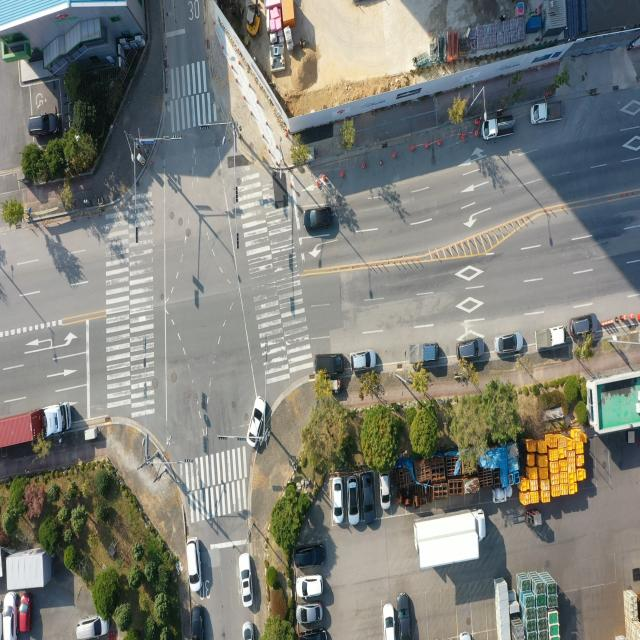car: (247, 396, 266, 447), (77, 614, 108, 640), (314, 351, 345, 376), (26, 115, 58, 139), (186, 540, 200, 594), (495, 332, 524, 358), (296, 546, 326, 571), (305, 207, 333, 231), (349, 349, 376, 373), (238, 554, 250, 608), (361, 475, 374, 524), (4, 591, 17, 640), (298, 574, 324, 598), (458, 338, 484, 362), (570, 314, 597, 337), (401, 597, 414, 640), (334, 477, 346, 523), (348, 478, 360, 524), (18, 594, 30, 638), (299, 604, 324, 624), (193, 604, 206, 640), (382, 604, 394, 640), (380, 476, 390, 510), (301, 629, 329, 640), (241, 622, 252, 640), (458, 631, 471, 640)
large_truck: (0, 403, 72, 451)
medium_truck: (414, 512, 487, 572)
small_truck: (536, 324, 569, 352), (483, 117, 516, 142), (532, 101, 564, 125), (408, 342, 440, 365)
